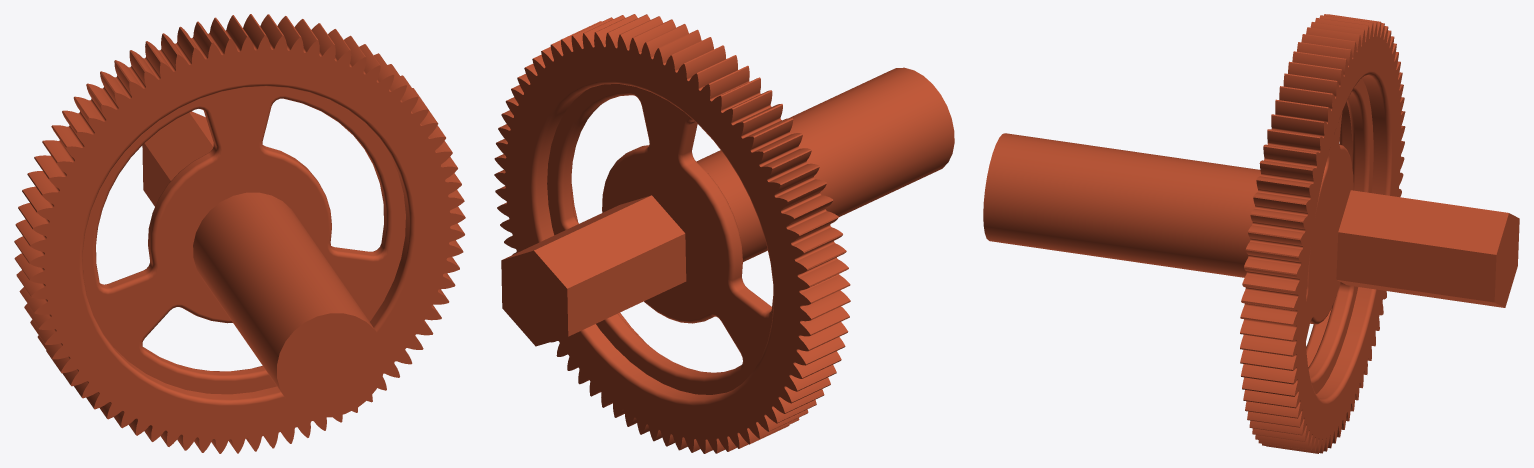
Rendered from Arm gear.gltf.
3 views of the same model, side by side, from view 1: azimuth 30°, elevation 25°; view 2: azimuth 150°, elevation 25°; view 3: azimuth 270°, elevation 25° (orthographic). The views are drawn at different scales.
Visible parts, largest first — view 1: Solid1; view 2: Solid1; view 3: Solid1.
Boxes of the visible parts, x1,y1,x2,y2 form: Solid1: (14,14,465,453); Solid1: (494,14,954,453); Solid1: (983,14,1519,453).
Bounding box in the file's own units: 0.024 × 0.0241 × 0.0295.
